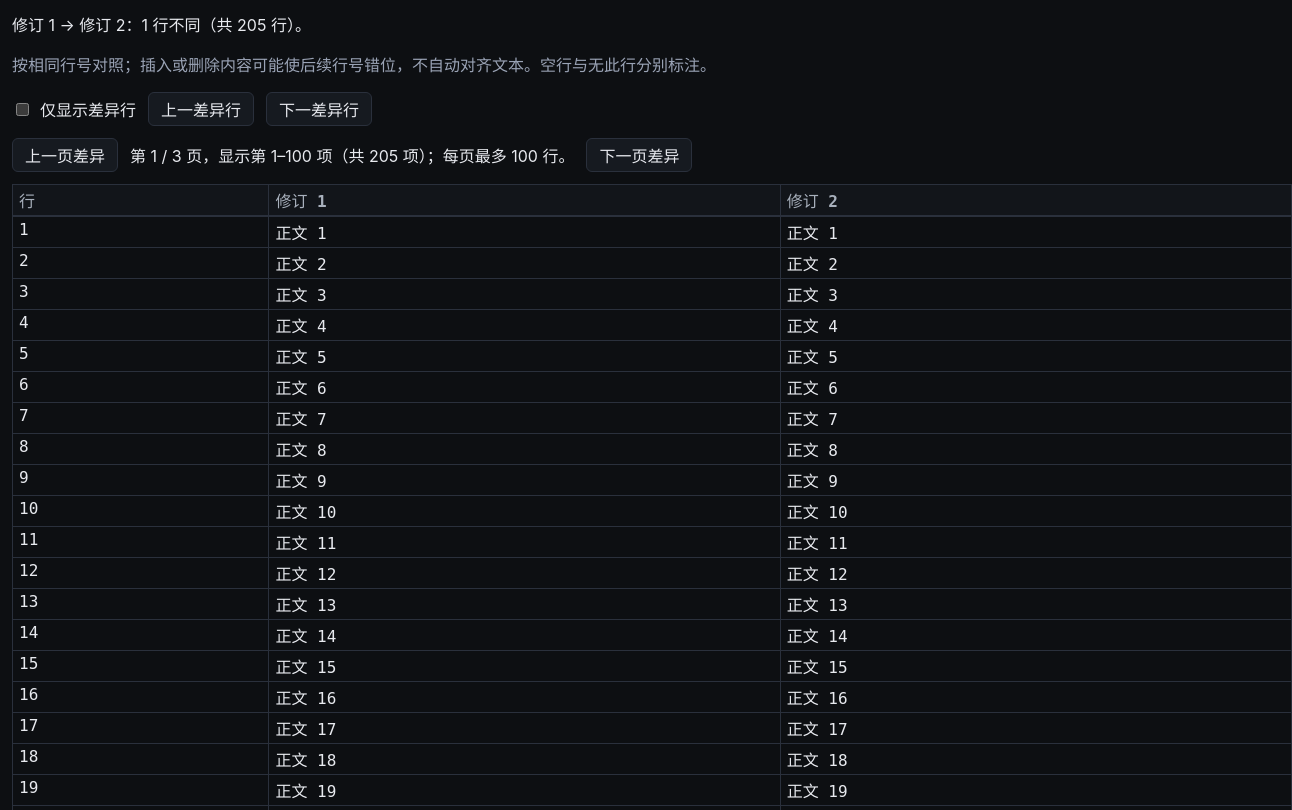
Test: Prompt revision comparison usability › filters to changed lines while preserving original line numbers and resets paging
Click the button "下一页差异".
click(639, 155)  # box top-left (586, 138), bottom-right (692, 172)
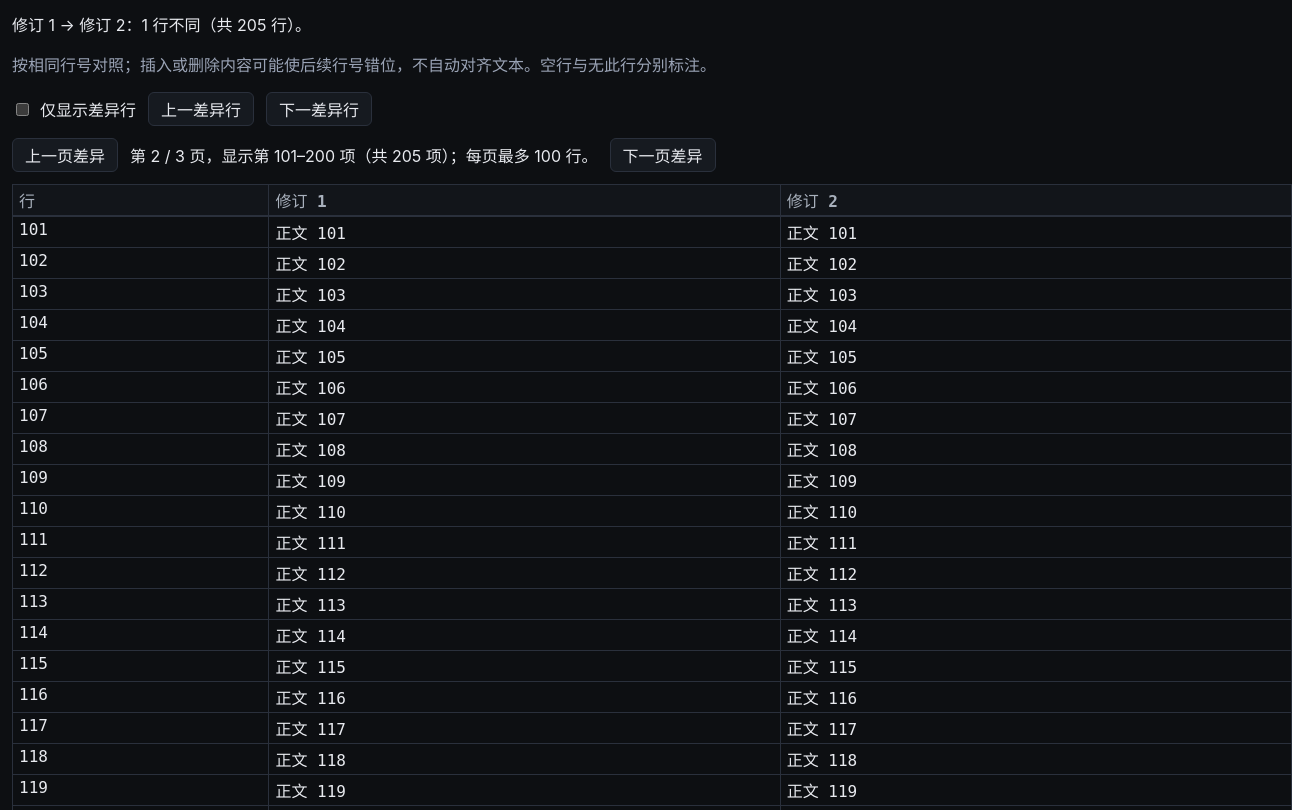
Click the checkbox labelled "仅显示差异行".
click(22, 109)  # box top-left (16, 102), bottom-right (29, 116)
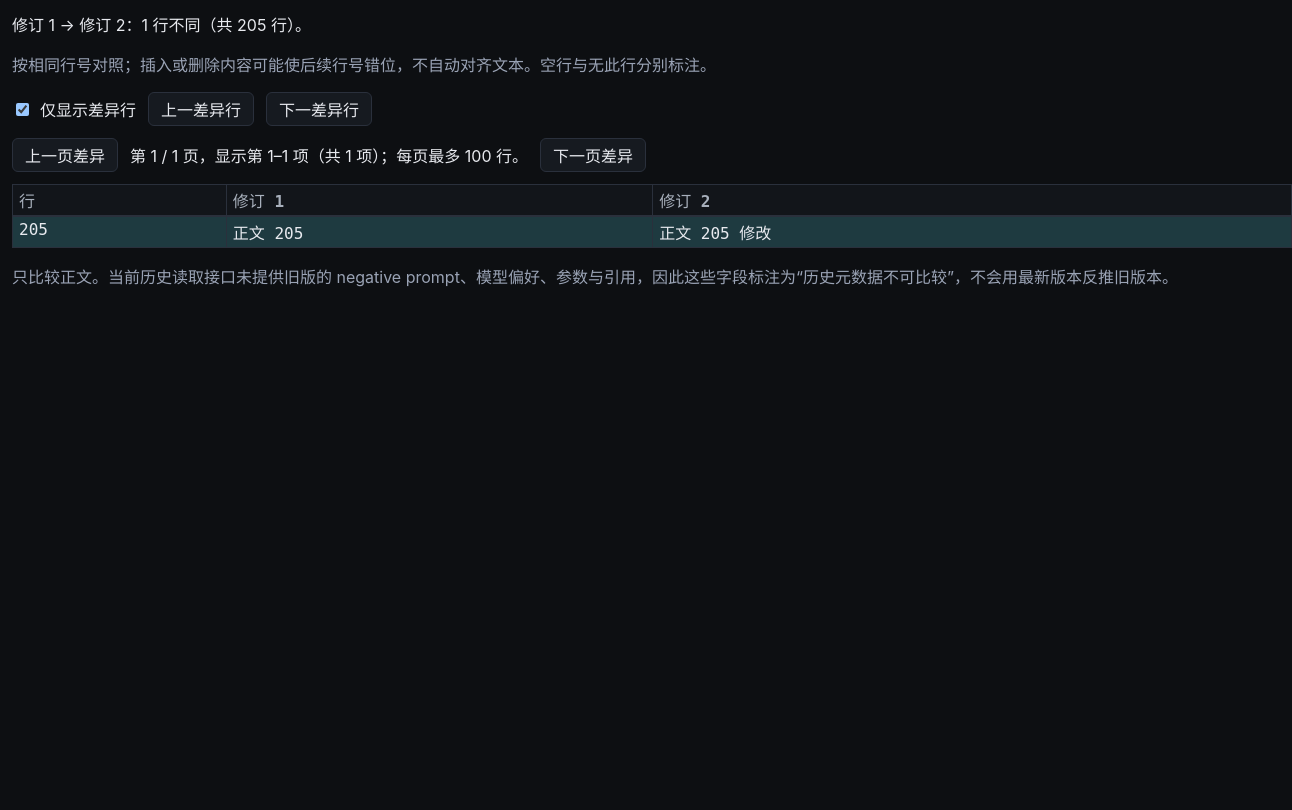
expect the number of rows is 2: met, box top-left (12, 184), bottom-right (1291, 216); top-left (12, 216), bottom-right (1291, 248)
expect the text "205" is shown: met, box top-left (12, 216), bottom-right (226, 248)
expect the text "正文 205 修改" is shown: met, box top-left (653, 216), bottom-right (1291, 248)
Click the checkbox labelled "仅显示差异行".
click(22, 109)  # box top-left (16, 102), bottom-right (29, 116)
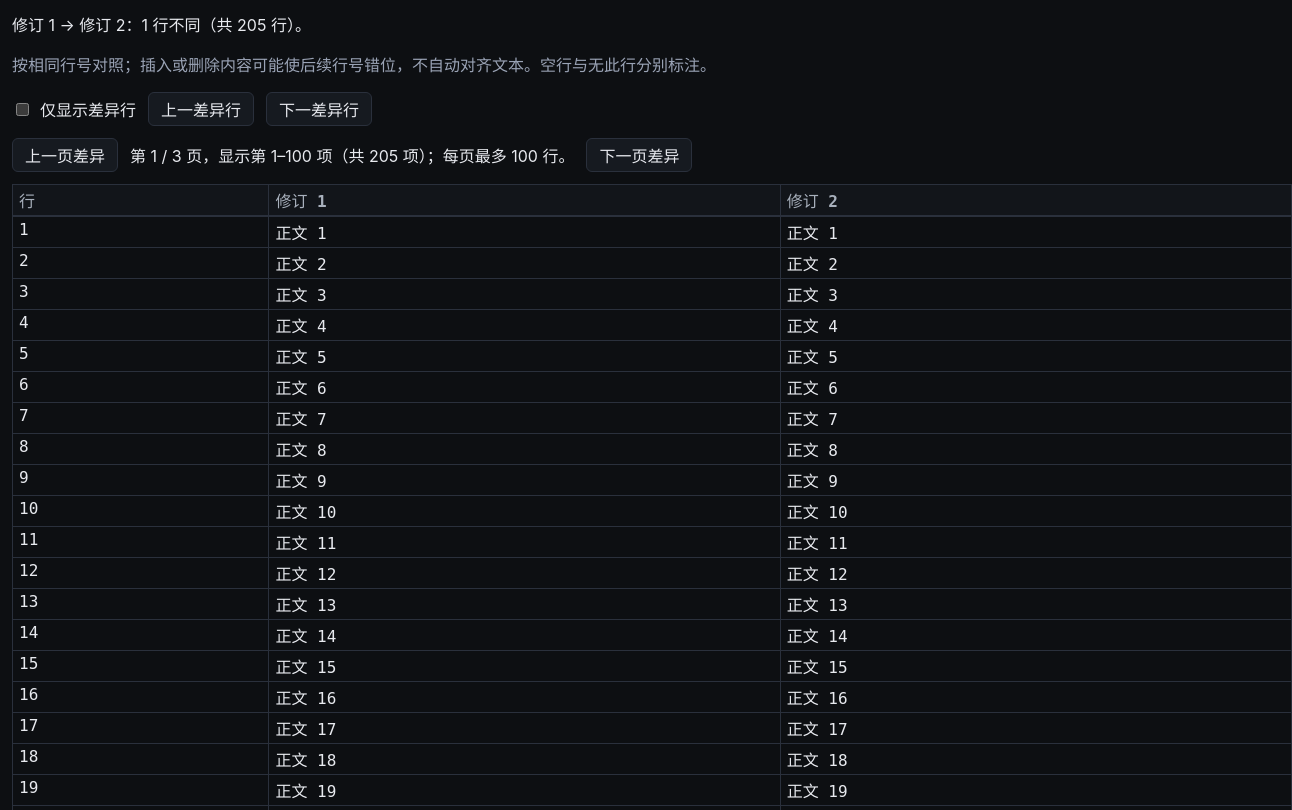
expect the text "正文 205 修改" is gone: met
expect the text "第 1 / 3 页，显示第 1–100 项（共 205 项）；每页最多 100 行。" is shown: met, box top-left (130, 143), bottom-right (574, 167)
